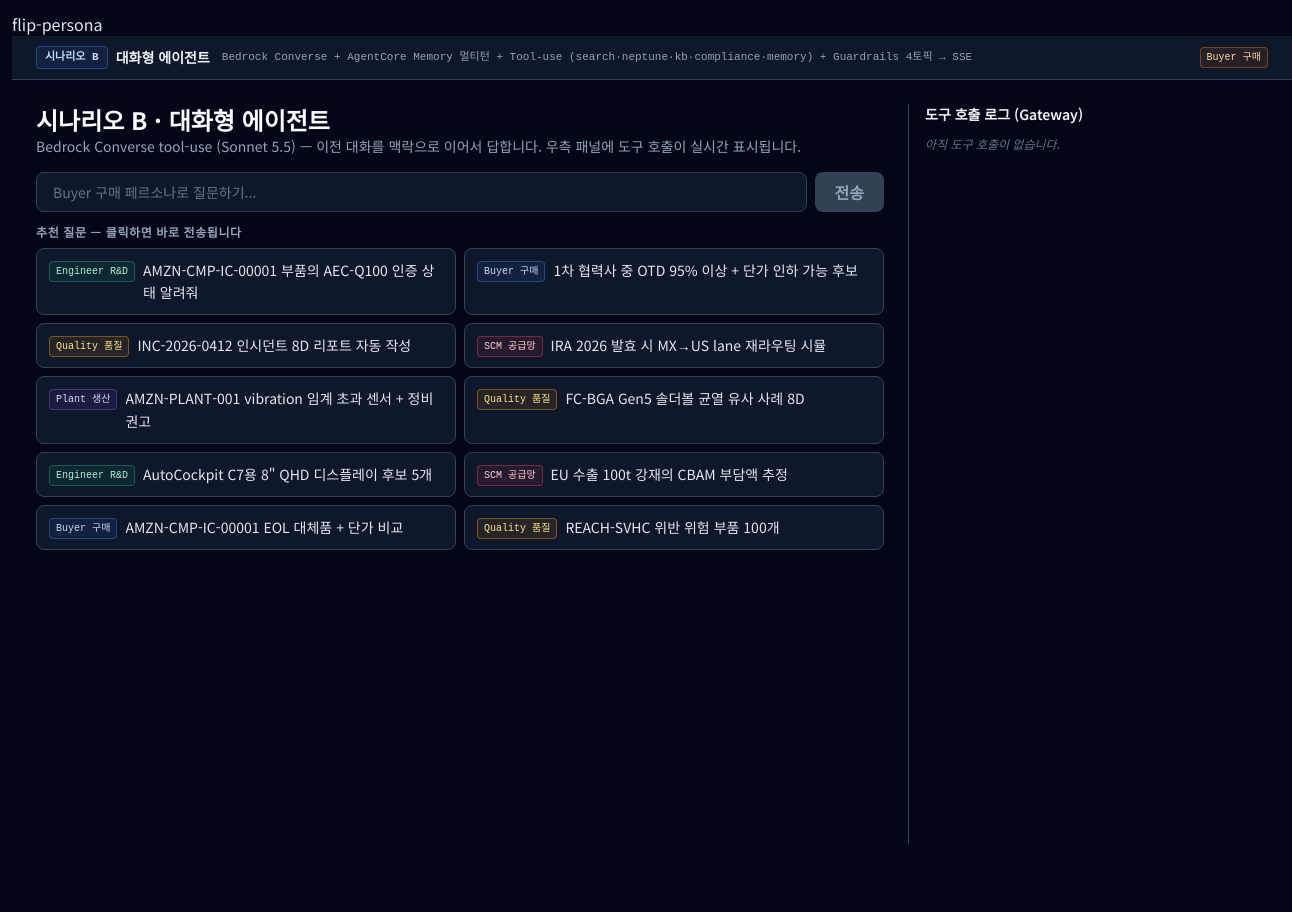
ChatPage › shows a visible error when PDF export fails (e.g. canvas too large)
This screenshot has width=1292, height=912.
Click the button "Buyer 구매 1차 협력사 중 OTD 95% 이상 + 단가 인하 가능 후보": (674, 281) [464,248,884,315]
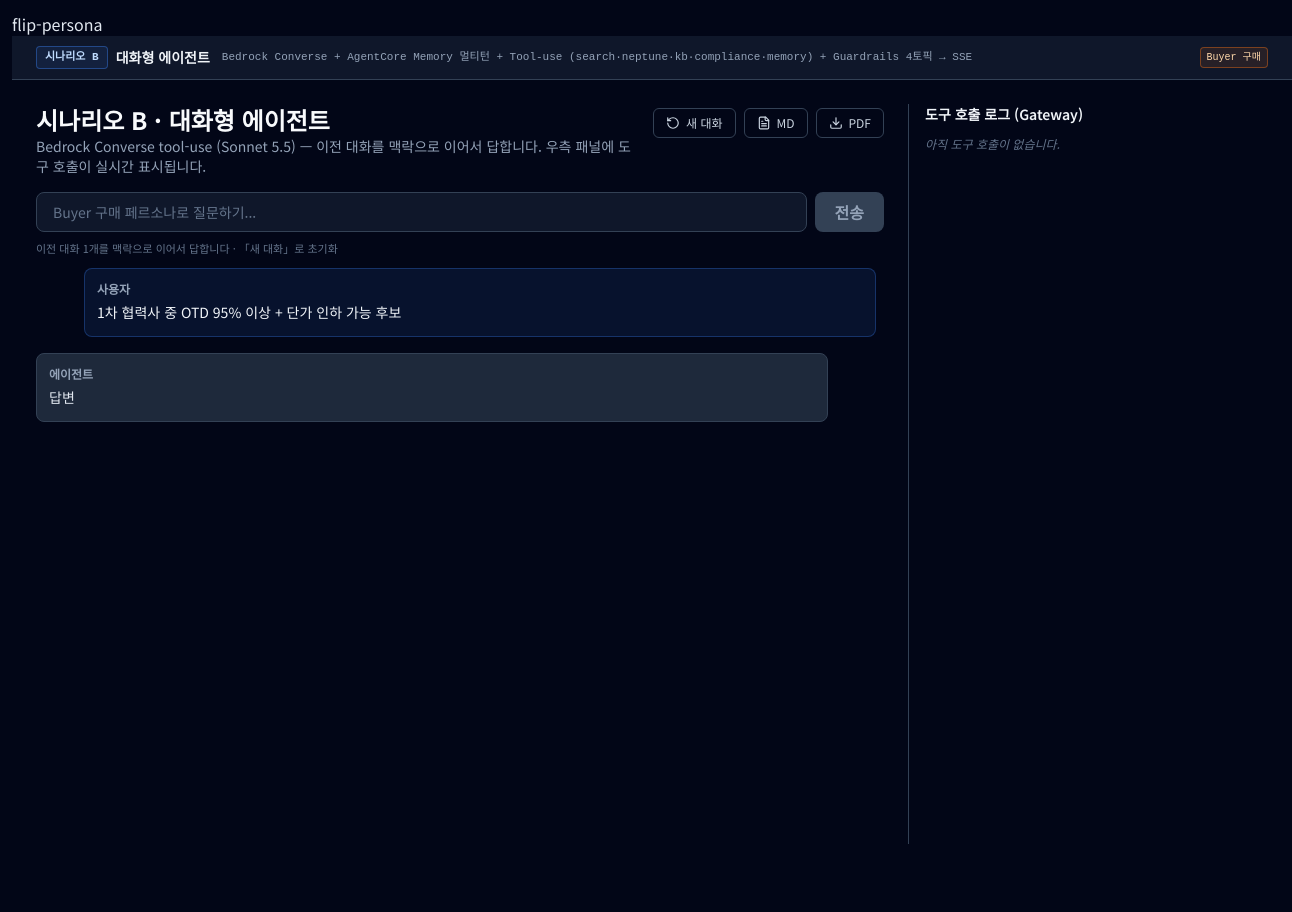
Click the button titled "대화 기록을 .pdf 파일로 다운로드": (850, 122) [816,108,884,138]
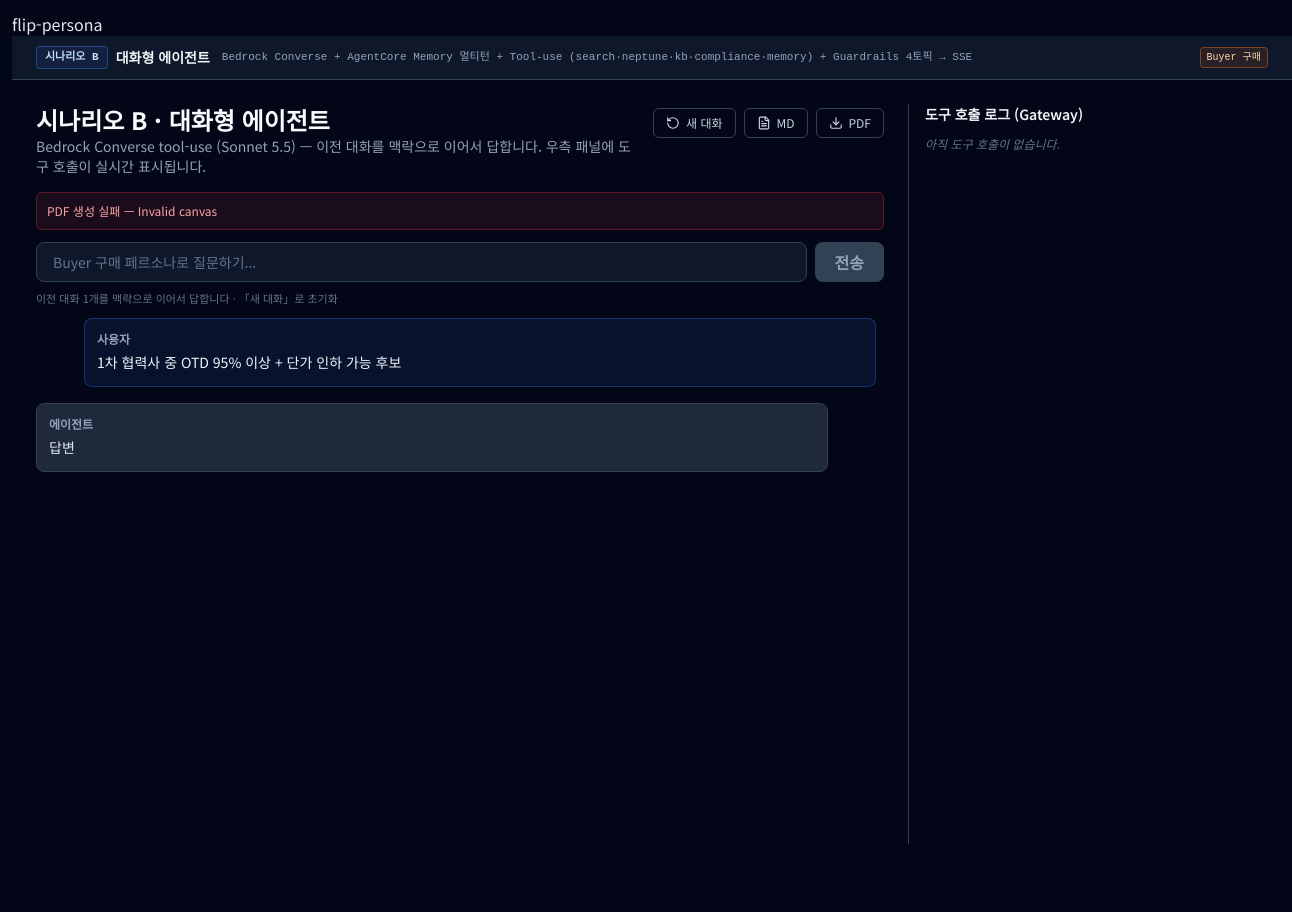
Expected: the text "PDF 생성 실패 — Invalid canvas" is shown, [36,192,884,230]
